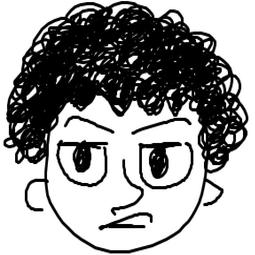ear: (18, 176, 57, 220), (193, 179, 230, 211)
eye: (138, 139, 195, 191), (52, 142, 111, 189)
frowning_eyebrow: (129, 114, 195, 136), (61, 110, 117, 135)
nose: (111, 147, 143, 211)
open_mouth: (96, 210, 159, 232)
